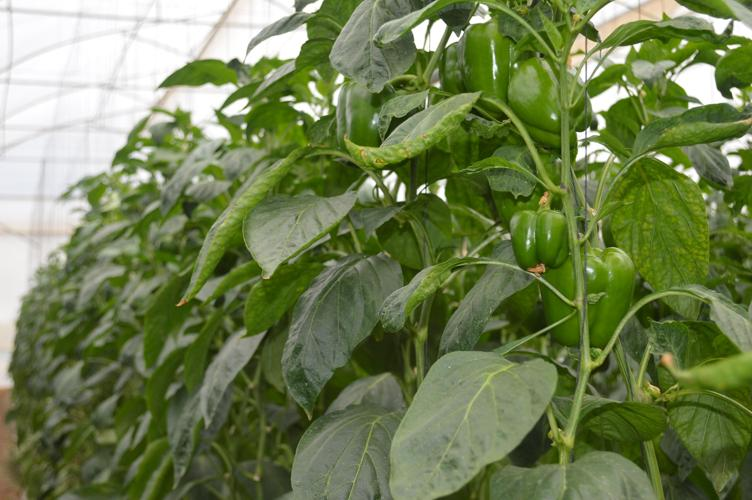BellPepper: (540, 245, 635, 351), (506, 57, 586, 154), (441, 22, 508, 118), (501, 210, 566, 273), (335, 80, 385, 154)
